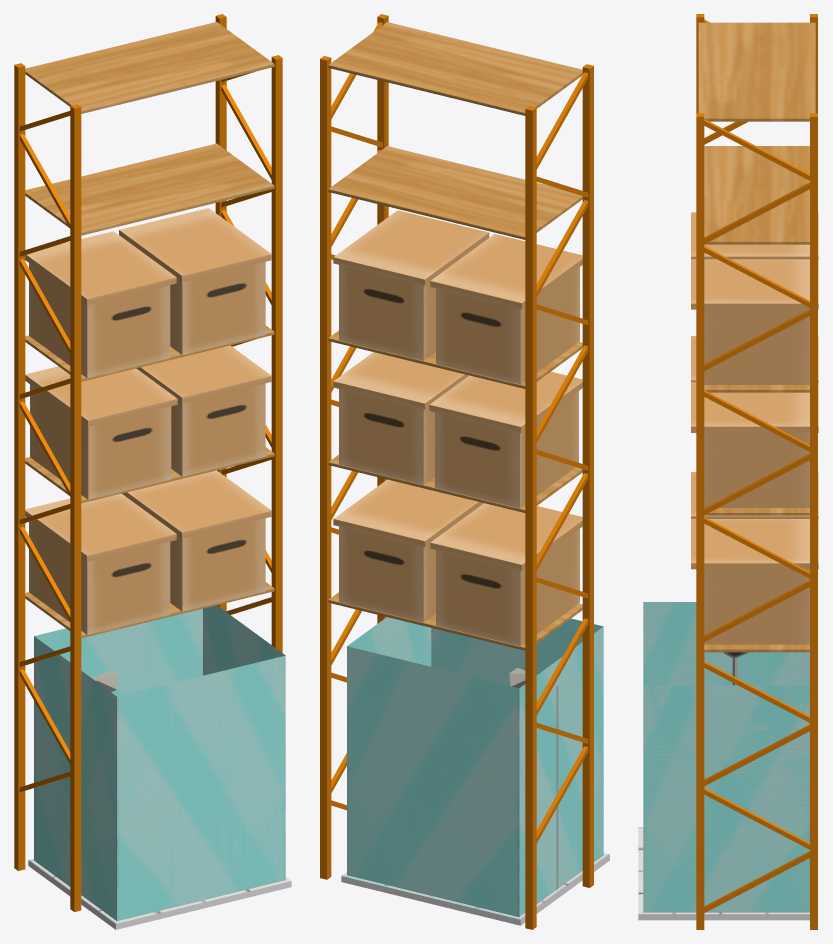
File: Shower_Rack.fbx
The picture shows the model from 3 angles, left to right: view 1: azimuth 30°, elevation 25°; view 2: azimuth 150°, elevation 25°; view 3: azimuth 270°, elevation 25°; orthographic projection.
Visible parts, largest first — view 1: Shower_Rack; view 2: Shower_Rack; view 3: Shower_Rack.
Part boxes in pixels (box(x1,y1,x2,y2)): Shower_Rack: box(14, 14, 291, 929); Shower_Rack: box(320, 14, 609, 929); Shower_Rack: box(638, 14, 818, 929).
Size of the model in its own units: 2 by 7.37 by 1.48.
